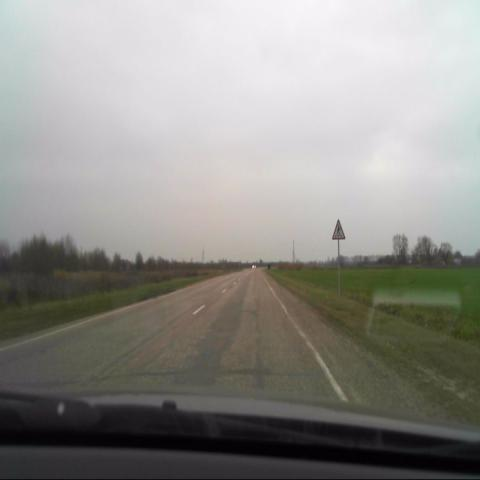1_22: (332, 219, 346, 240)
